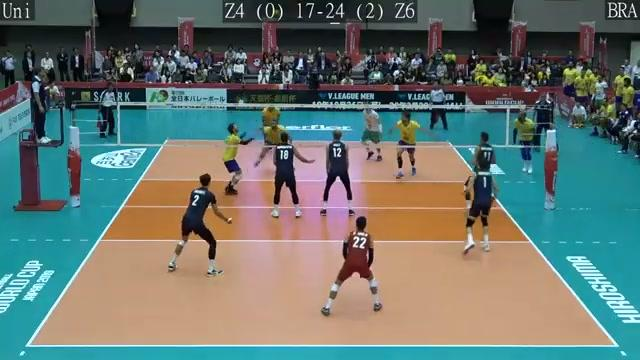ball: (269, 7, 282, 20)
